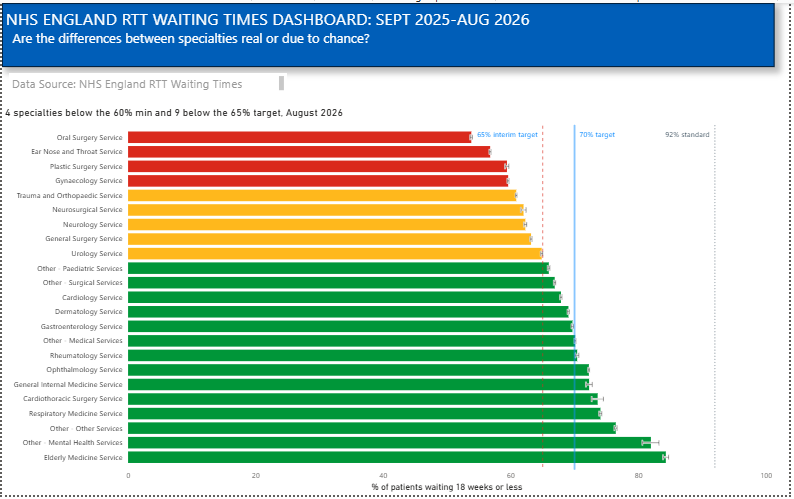

The dashboard page shown, as its layout file describes it:
{"tool":"powerbi","page":{"name":"Statistical Significance","canvas":[1280,800],"ordinal":5},"visuals":[{"type":"textbox","box":[0,0,1255.8,103.5],"z":0},{"type":"textbox","box":[149.5,297.3,181.4,97.4],"z":1000},{"type":"textbox","box":[11.8,114.2,451.9,33.6],"z":2000},{"type":"clusteredBarChart","title":"4 specialties below the 60% min and 9 below the 65% target, August 2026","fields":{"Category":["specialty_ci_aug2026.treatment_function_name"],"Y":["Avg(specialty_ci_aug2026.pct_within_18)"]},"box":[0,167.3,1257.1,632.1],"z":3000}]}

Visuals, with their boxes in screenshot pixels (x1, y1, x2, y2), scaled from the page's 1280x800 canvas onto the 794x499 screenshot:
textbox: pyautogui.locateOnScreen(0, 0, 779, 65)
textbox: pyautogui.locateOnScreen(93, 185, 205, 246)
textbox: pyautogui.locateOnScreen(7, 71, 288, 92)
"4 specialties below the 60% min and 9 below the 65% target, August 2026" clusteredBarChart: pyautogui.locateOnScreen(0, 104, 780, 498)
